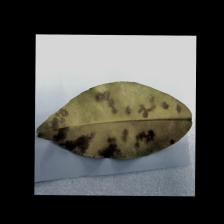black spot: (50, 86, 172, 160)
